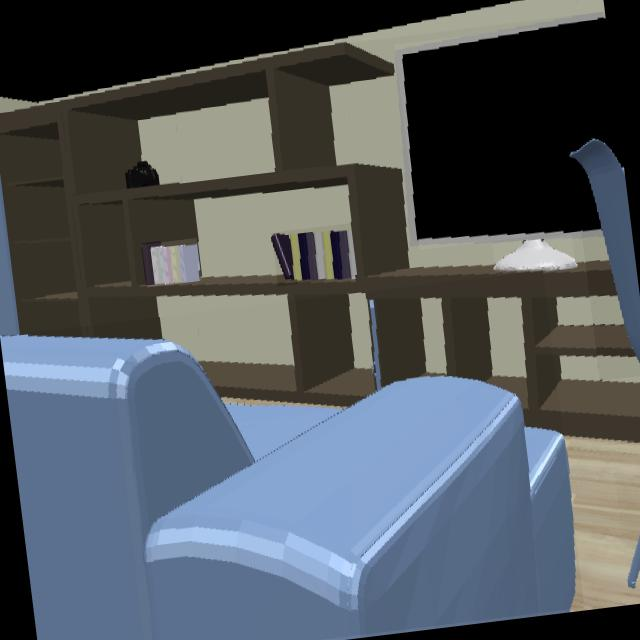book: (272, 231, 356, 281), (142, 244, 200, 284)
bookshelf: (0, 43, 640, 438)
chair: (572, 140, 640, 363), (628, 533, 640, 586)
monitor: (398, 19, 622, 240), (495, 240, 575, 272)
sofa: (0, 338, 574, 640)
